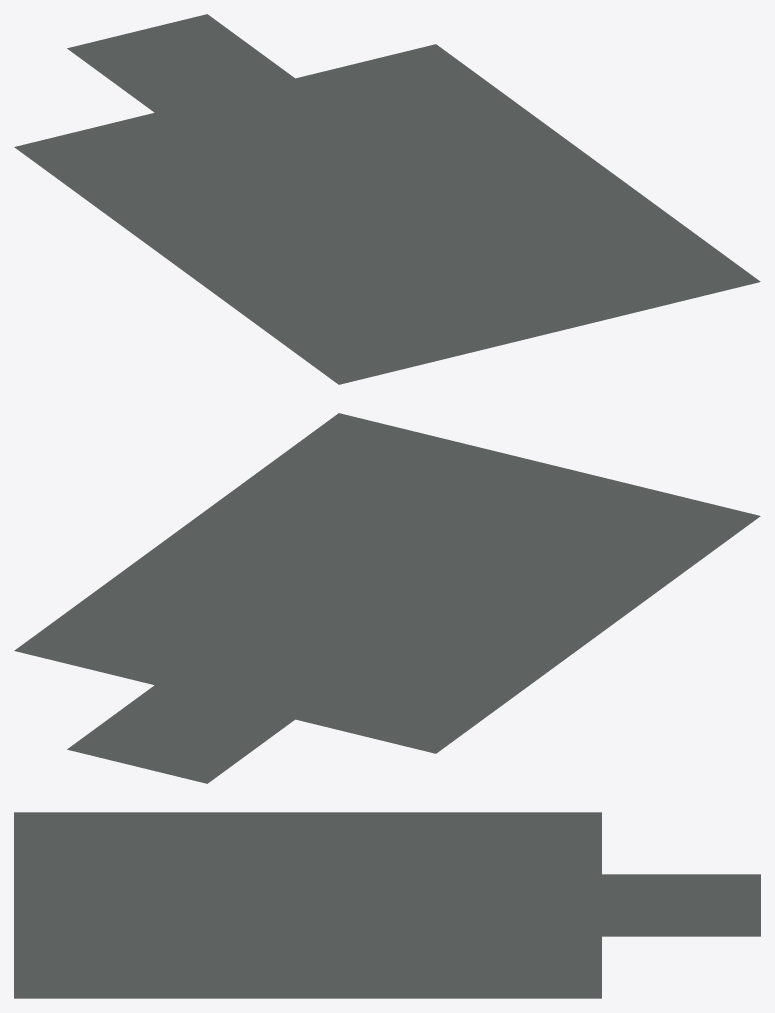
File: N03_Piso_Bodega.fbx
3 views of the same model, one above another, from view 1: azimuth 30°, elevation 25°; view 2: azimuth 150°, elevation 25°; view 3: azimuth 270°, elevation 25° (orthographic). The views are drawn at different scales.
Parts seen in each view (by area): view 1: N03_Piso_Bodega; view 2: N03_Piso_Bodega; view 3: N03_Piso_Bodega.
Boxes of the visible parts, x1,y1,x2,y2 form: N03_Piso_Bodega: (14, 14, 760, 384); N03_Piso_Bodega: (14, 413, 760, 783); N03_Piso_Bodega: (14, 812, 760, 998).
Bounding box in the file's own units: 300 × 1.31e-05 × 508.
1 material, 1 textured.
